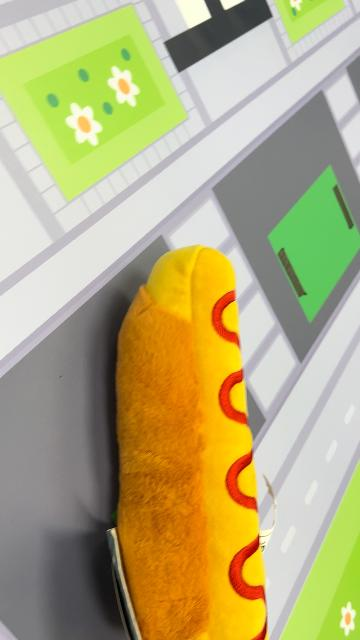hotdog: (114, 244, 268, 638)
